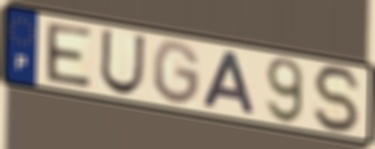9: (262, 56, 306, 126)
A: (200, 48, 258, 118)
E: (43, 21, 94, 91)
G: (151, 38, 203, 108)
S: (310, 63, 364, 136)
U: (97, 26, 148, 96)
